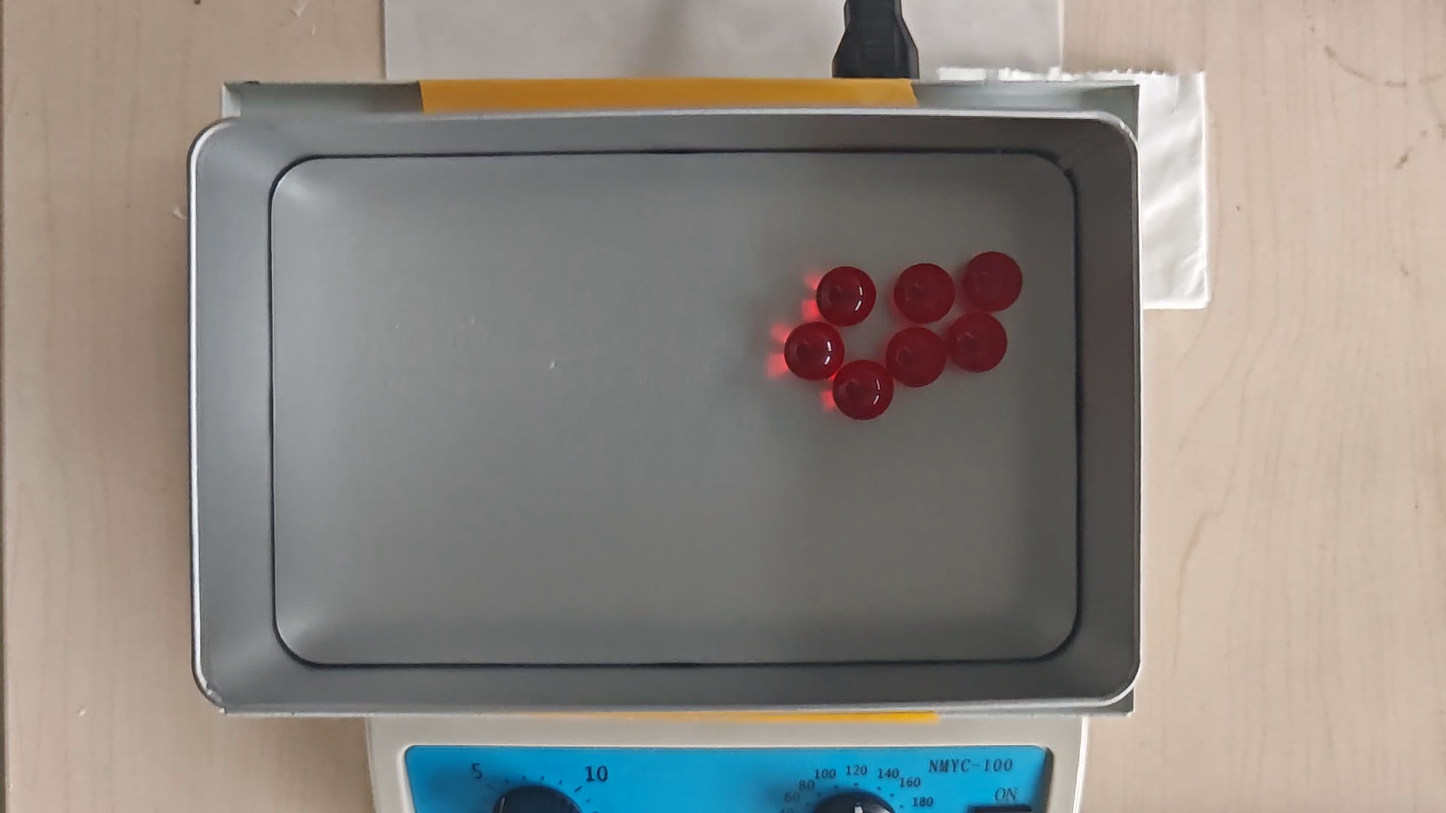ball: (946, 313, 1008, 373), (889, 327, 949, 388), (963, 252, 1022, 310), (837, 360, 892, 421), (895, 264, 953, 321), (786, 322, 843, 379), (819, 266, 875, 324)
container: (272, 151, 1078, 665)
